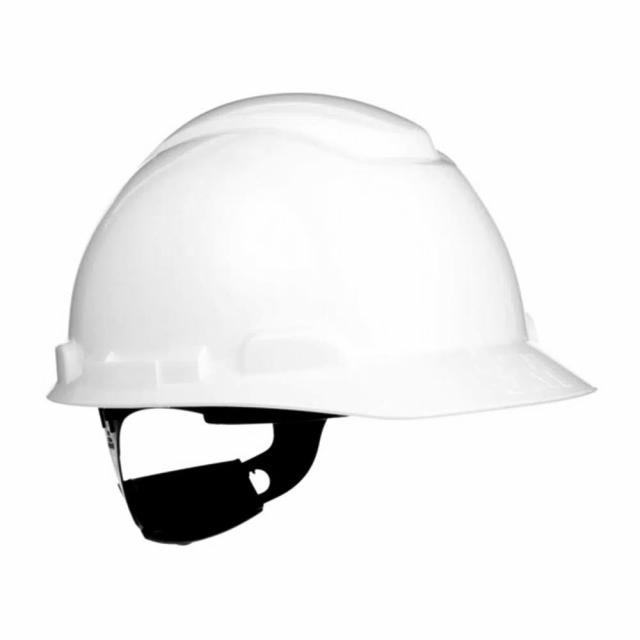safety_helmet: (45, 92, 597, 547)
